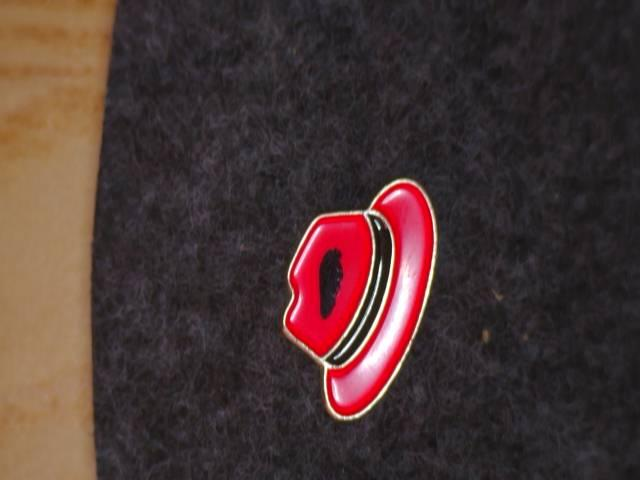Red-Hat: (259, 162, 455, 447)
Scratch: (303, 236, 363, 337)
